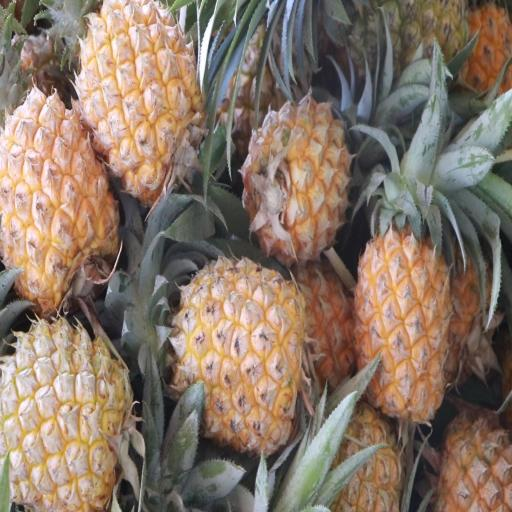Pineapple - v8 v1: (0, 90, 120, 312), (4, 321, 138, 512), (179, 260, 308, 449), (82, 0, 204, 192), (353, 220, 451, 421), (248, 98, 354, 262)
